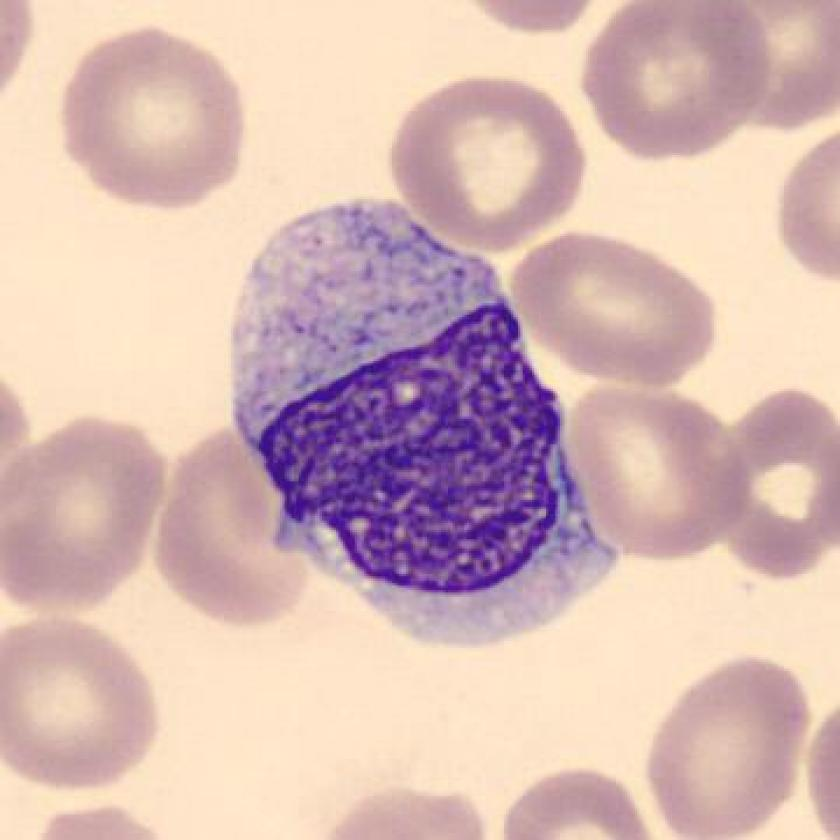monocyte: (209, 172, 638, 672)
